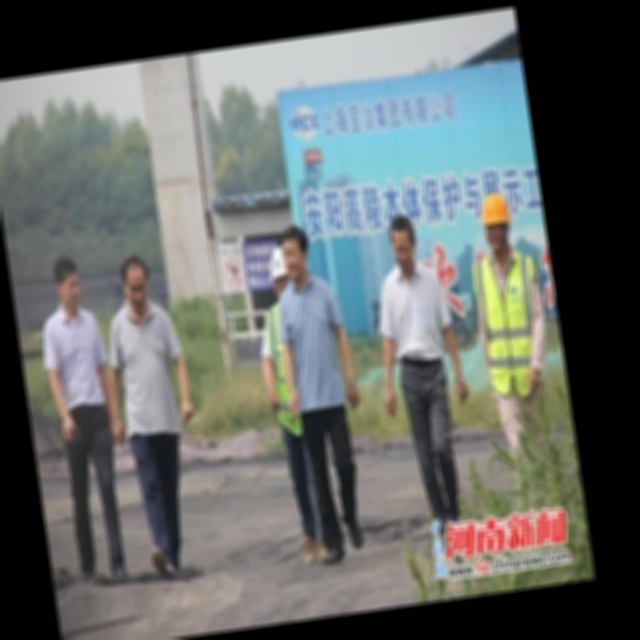Con_Casco: (476, 192, 515, 253)
Con_Chaleco: (470, 249, 554, 396)
Sin_Casco_Mascarrilla: (52, 255, 85, 315), (388, 214, 420, 269)
Sin_Chaleco: (108, 300, 183, 431)
